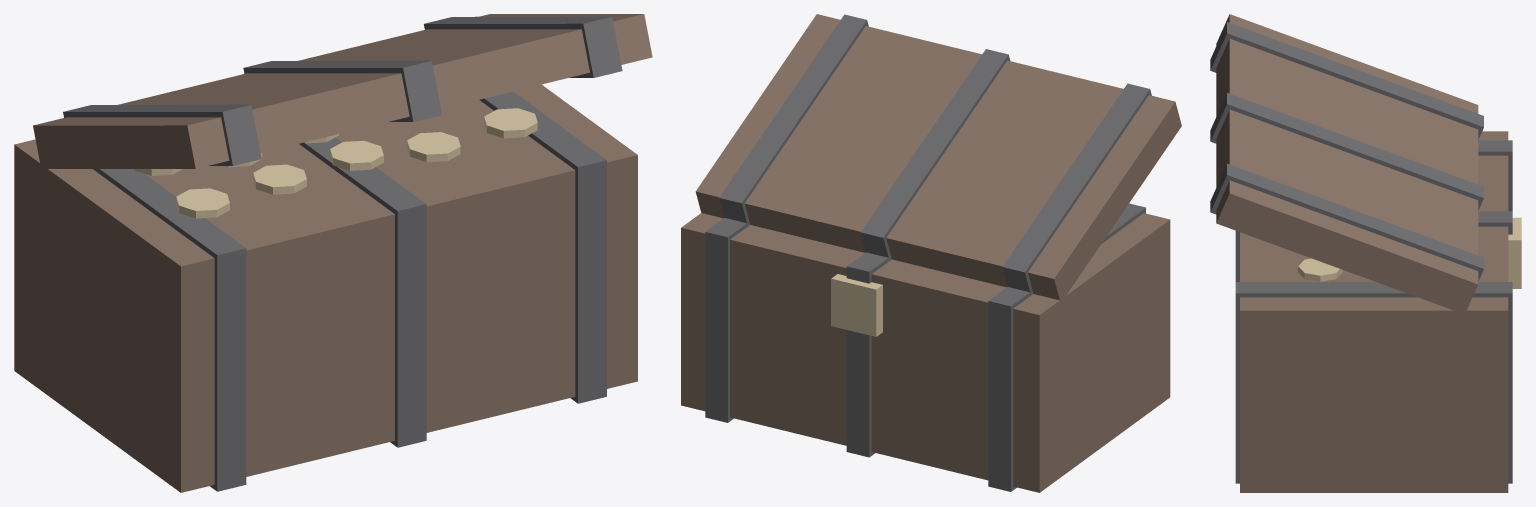
File: flotsam_chest.gltf
The picture shows the model from 3 angles, left to right: view 1: azimuth 30°, elevation 25°; view 2: azimuth 150°, elevation 25°; view 3: azimuth 270°, elevation 25°; orthographic projection. The views are drawn at different scales.
Visible parts, largest first — view 1: Body; view 2: Body; view 3: Body.
Boxes of the visible parts, box(x1,y1,x2,y2) form: Body: box(14, 14, 652, 492); Body: box(681, 14, 1181, 492); Body: box(1210, 14, 1521, 492).
Size of the model in its own units: 0.95 by 0.7625 by 0.6962.
